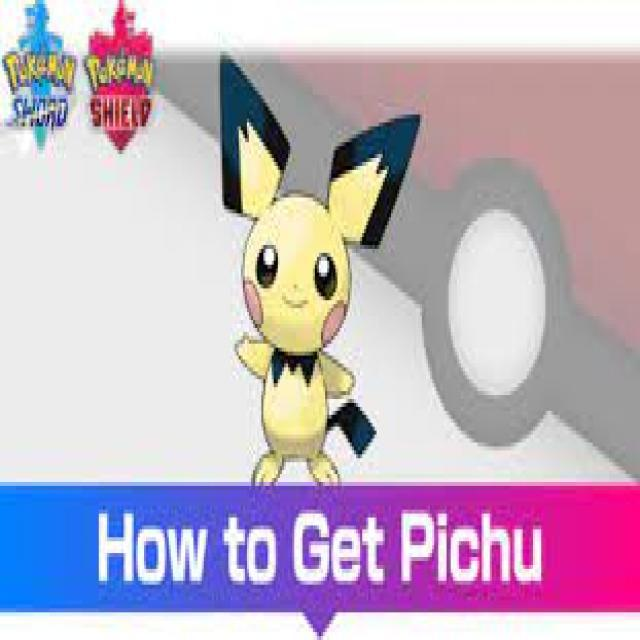pichu: (206, 32, 414, 486)
